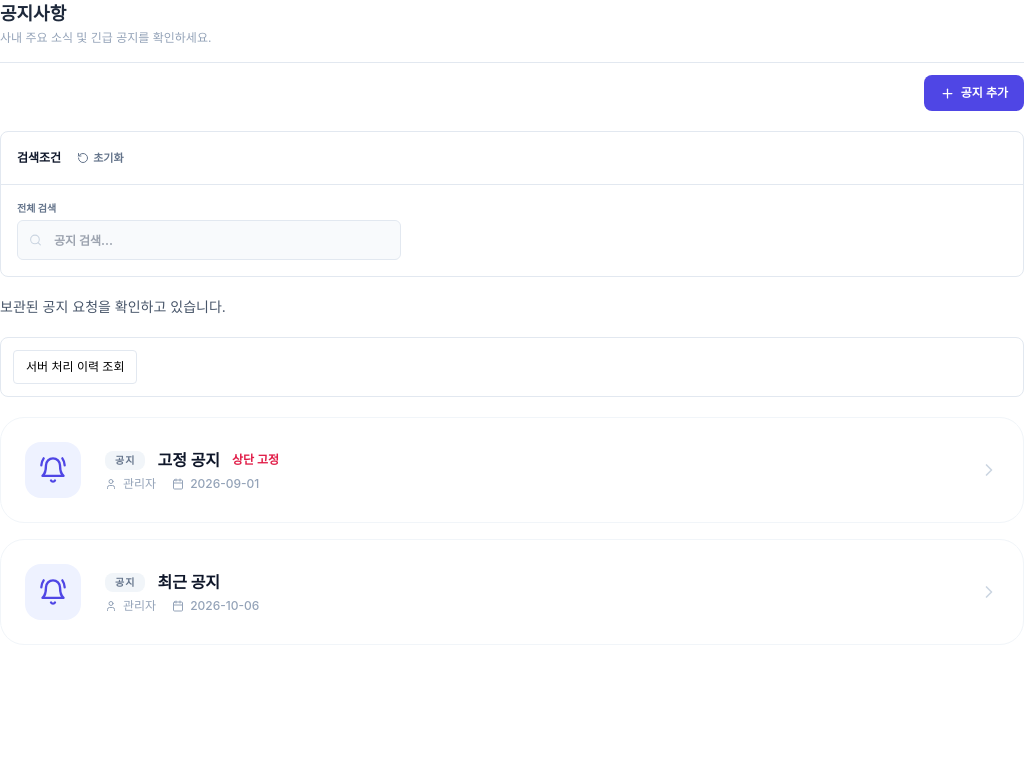
it: 부모 재렌더 없이 UID 구독이 바뀌면 확인 대기 상세와 송신 권한을 분리한다
This screenshot has width=1024, height=768.
Click the heading "고정 공지": (189, 460) [157,448,220,472]
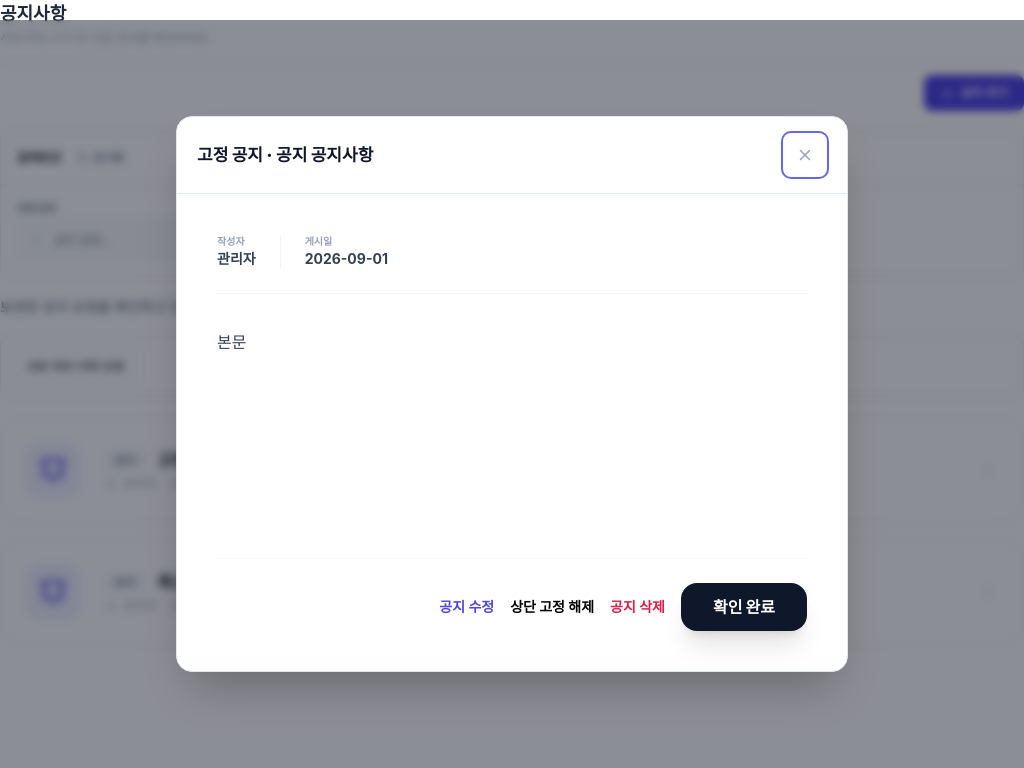
Click the button "공지 삭제": (638, 607) [610,583,665,631]
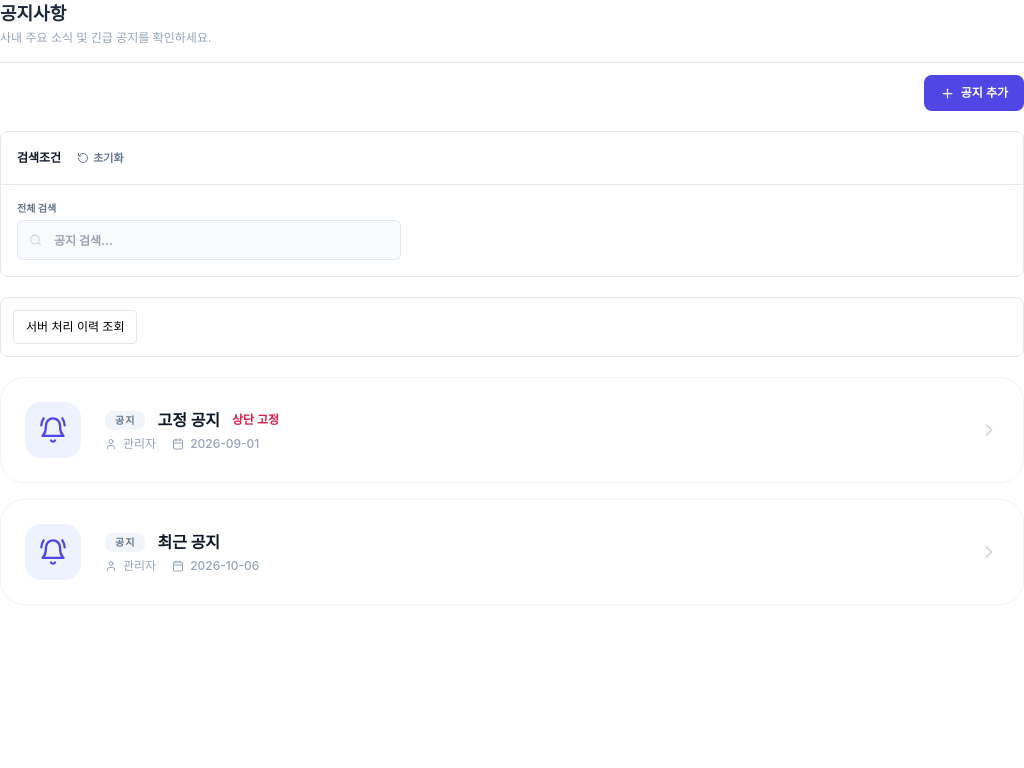
Expected: the dialog is gone
